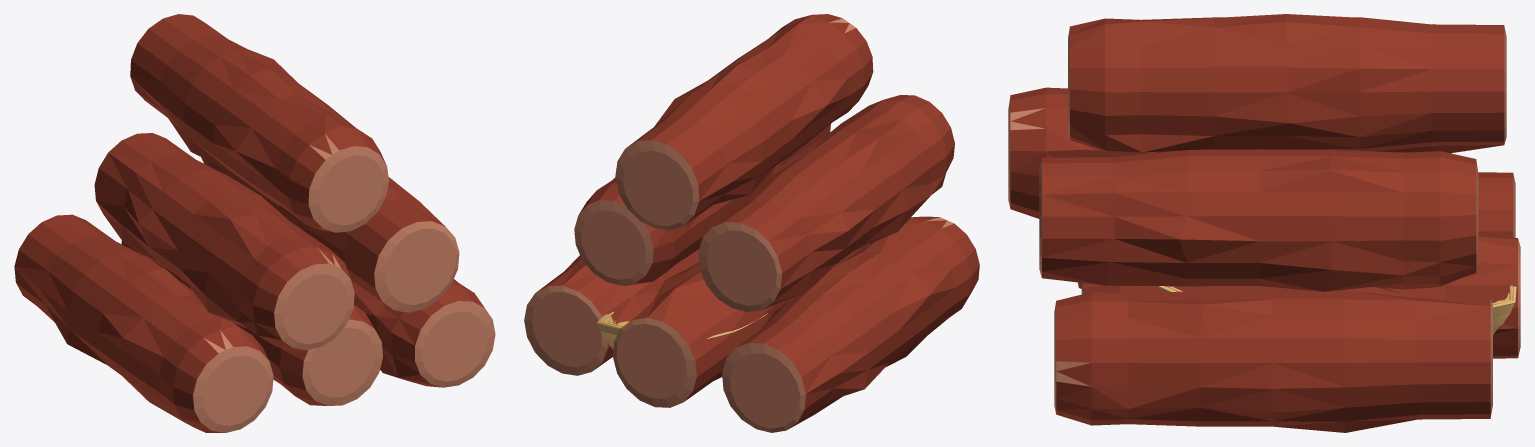
The picture shows the model from 3 angles, left to right: view 1: azimuth 30°, elevation 25°; view 2: azimuth 150°, elevation 25°; view 3: azimuth 270°, elevation 25°; orthographic projection. The views are drawn at different scales.
Visible parts, largest first — view 1: Wood_004, Wood_005, Wood, Wood_003, Wood_002, Wood_001; view 2: Wood_004, Wood_005, Wood, Wood_001, Wood_002, Wood_003, BaseBarca; view 3: Wood_003, Wood_002, Wood_005, Wood_004, Wood_001, Wood, BaseBarca.
Boxes of the visible parts, x1,y1,x2,y2 form: Wood_004: (94, 133, 354, 352); Wood_005: (130, 14, 389, 232); Wood: (14, 214, 273, 432); Wood_003: (201, 157, 459, 312); Wood_002: (352, 279, 495, 387); Wood_001: (121, 241, 382, 405); Wood_004: (698, 95, 954, 311); Wood_005: (615, 14, 873, 230); Wood: (722, 216, 979, 432); Wood_001: (613, 245, 867, 407); Wood_002: (524, 249, 698, 375); Wood_003: (574, 124, 830, 285); BaseBarca: (597, 311, 767, 349); Wood_003: (1039, 149, 1478, 291); Wood_002: (1054, 286, 1492, 432); Wood_005: (1068, 14, 1506, 153); Wood_004: (1008, 87, 1156, 218); Wood_001: (1081, 236, 1520, 358); Wood: (1077, 172, 1515, 288); BaseBarca: (1156, 285, 1516, 334).
Bounding box in the file's own units: 6.44 × 7.47 × 5.73.
